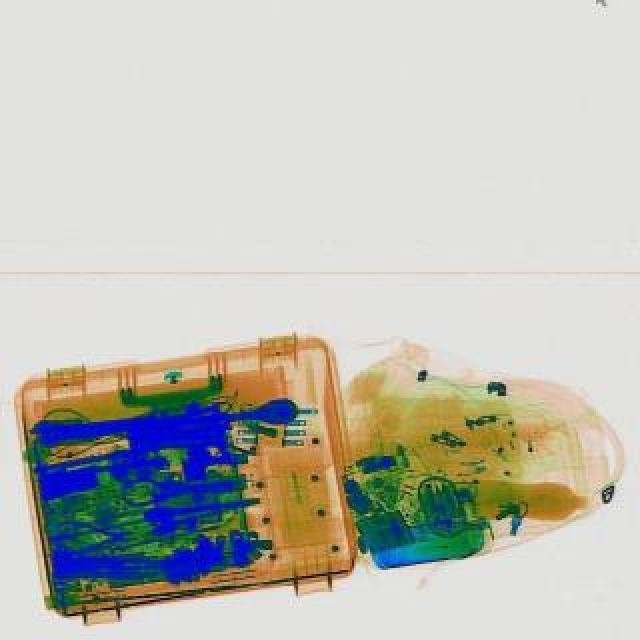wrench: (52, 518, 134, 556)
